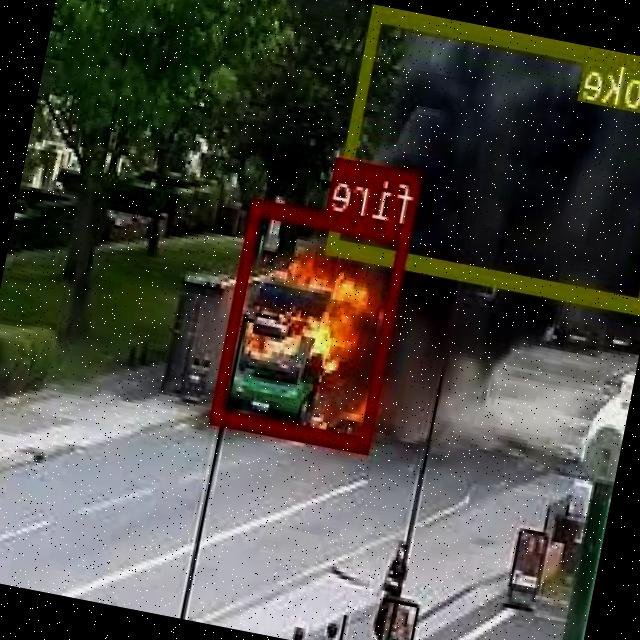fire: (214, 197, 415, 452)
smoke: (327, 4, 640, 314)
